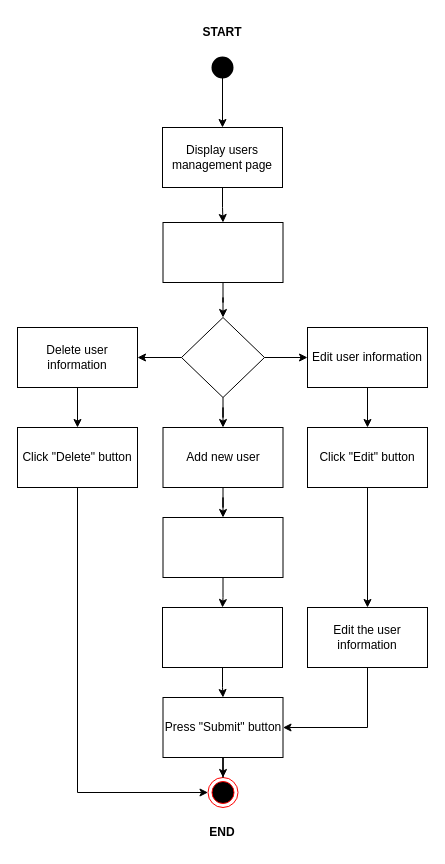
The diagram is 445 pixels wide and 864 high, and some of its shapes have lost their labels. The box of each missing label's shape, as (x1, y1, x2, y2) in pixels:
Choose: (180, 316, 264, 398)
Click "Add" button: (162, 516, 283, 578)
Display list of users information: (162, 222, 283, 282)
Enter the required information: (162, 606, 282, 668)
